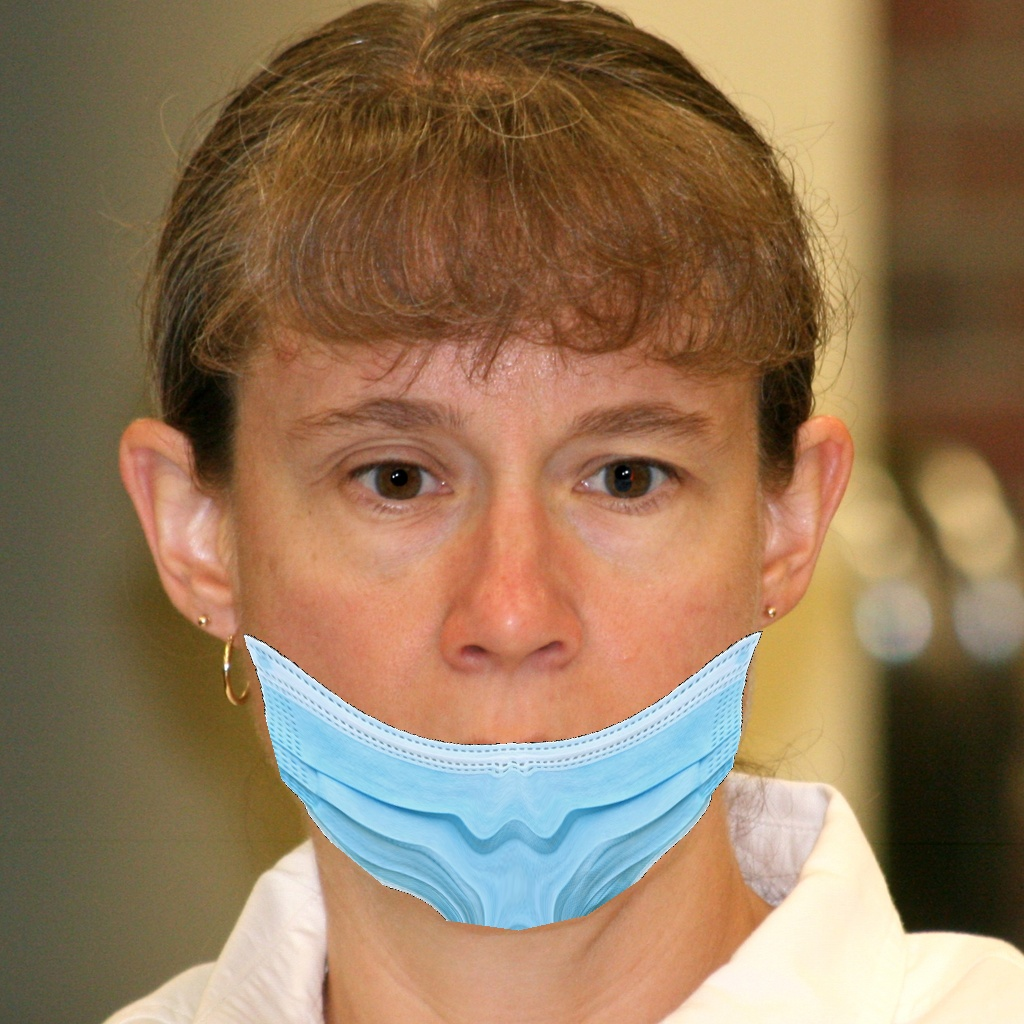mascarilla_mal_puesta: (199, 323, 827, 933)
